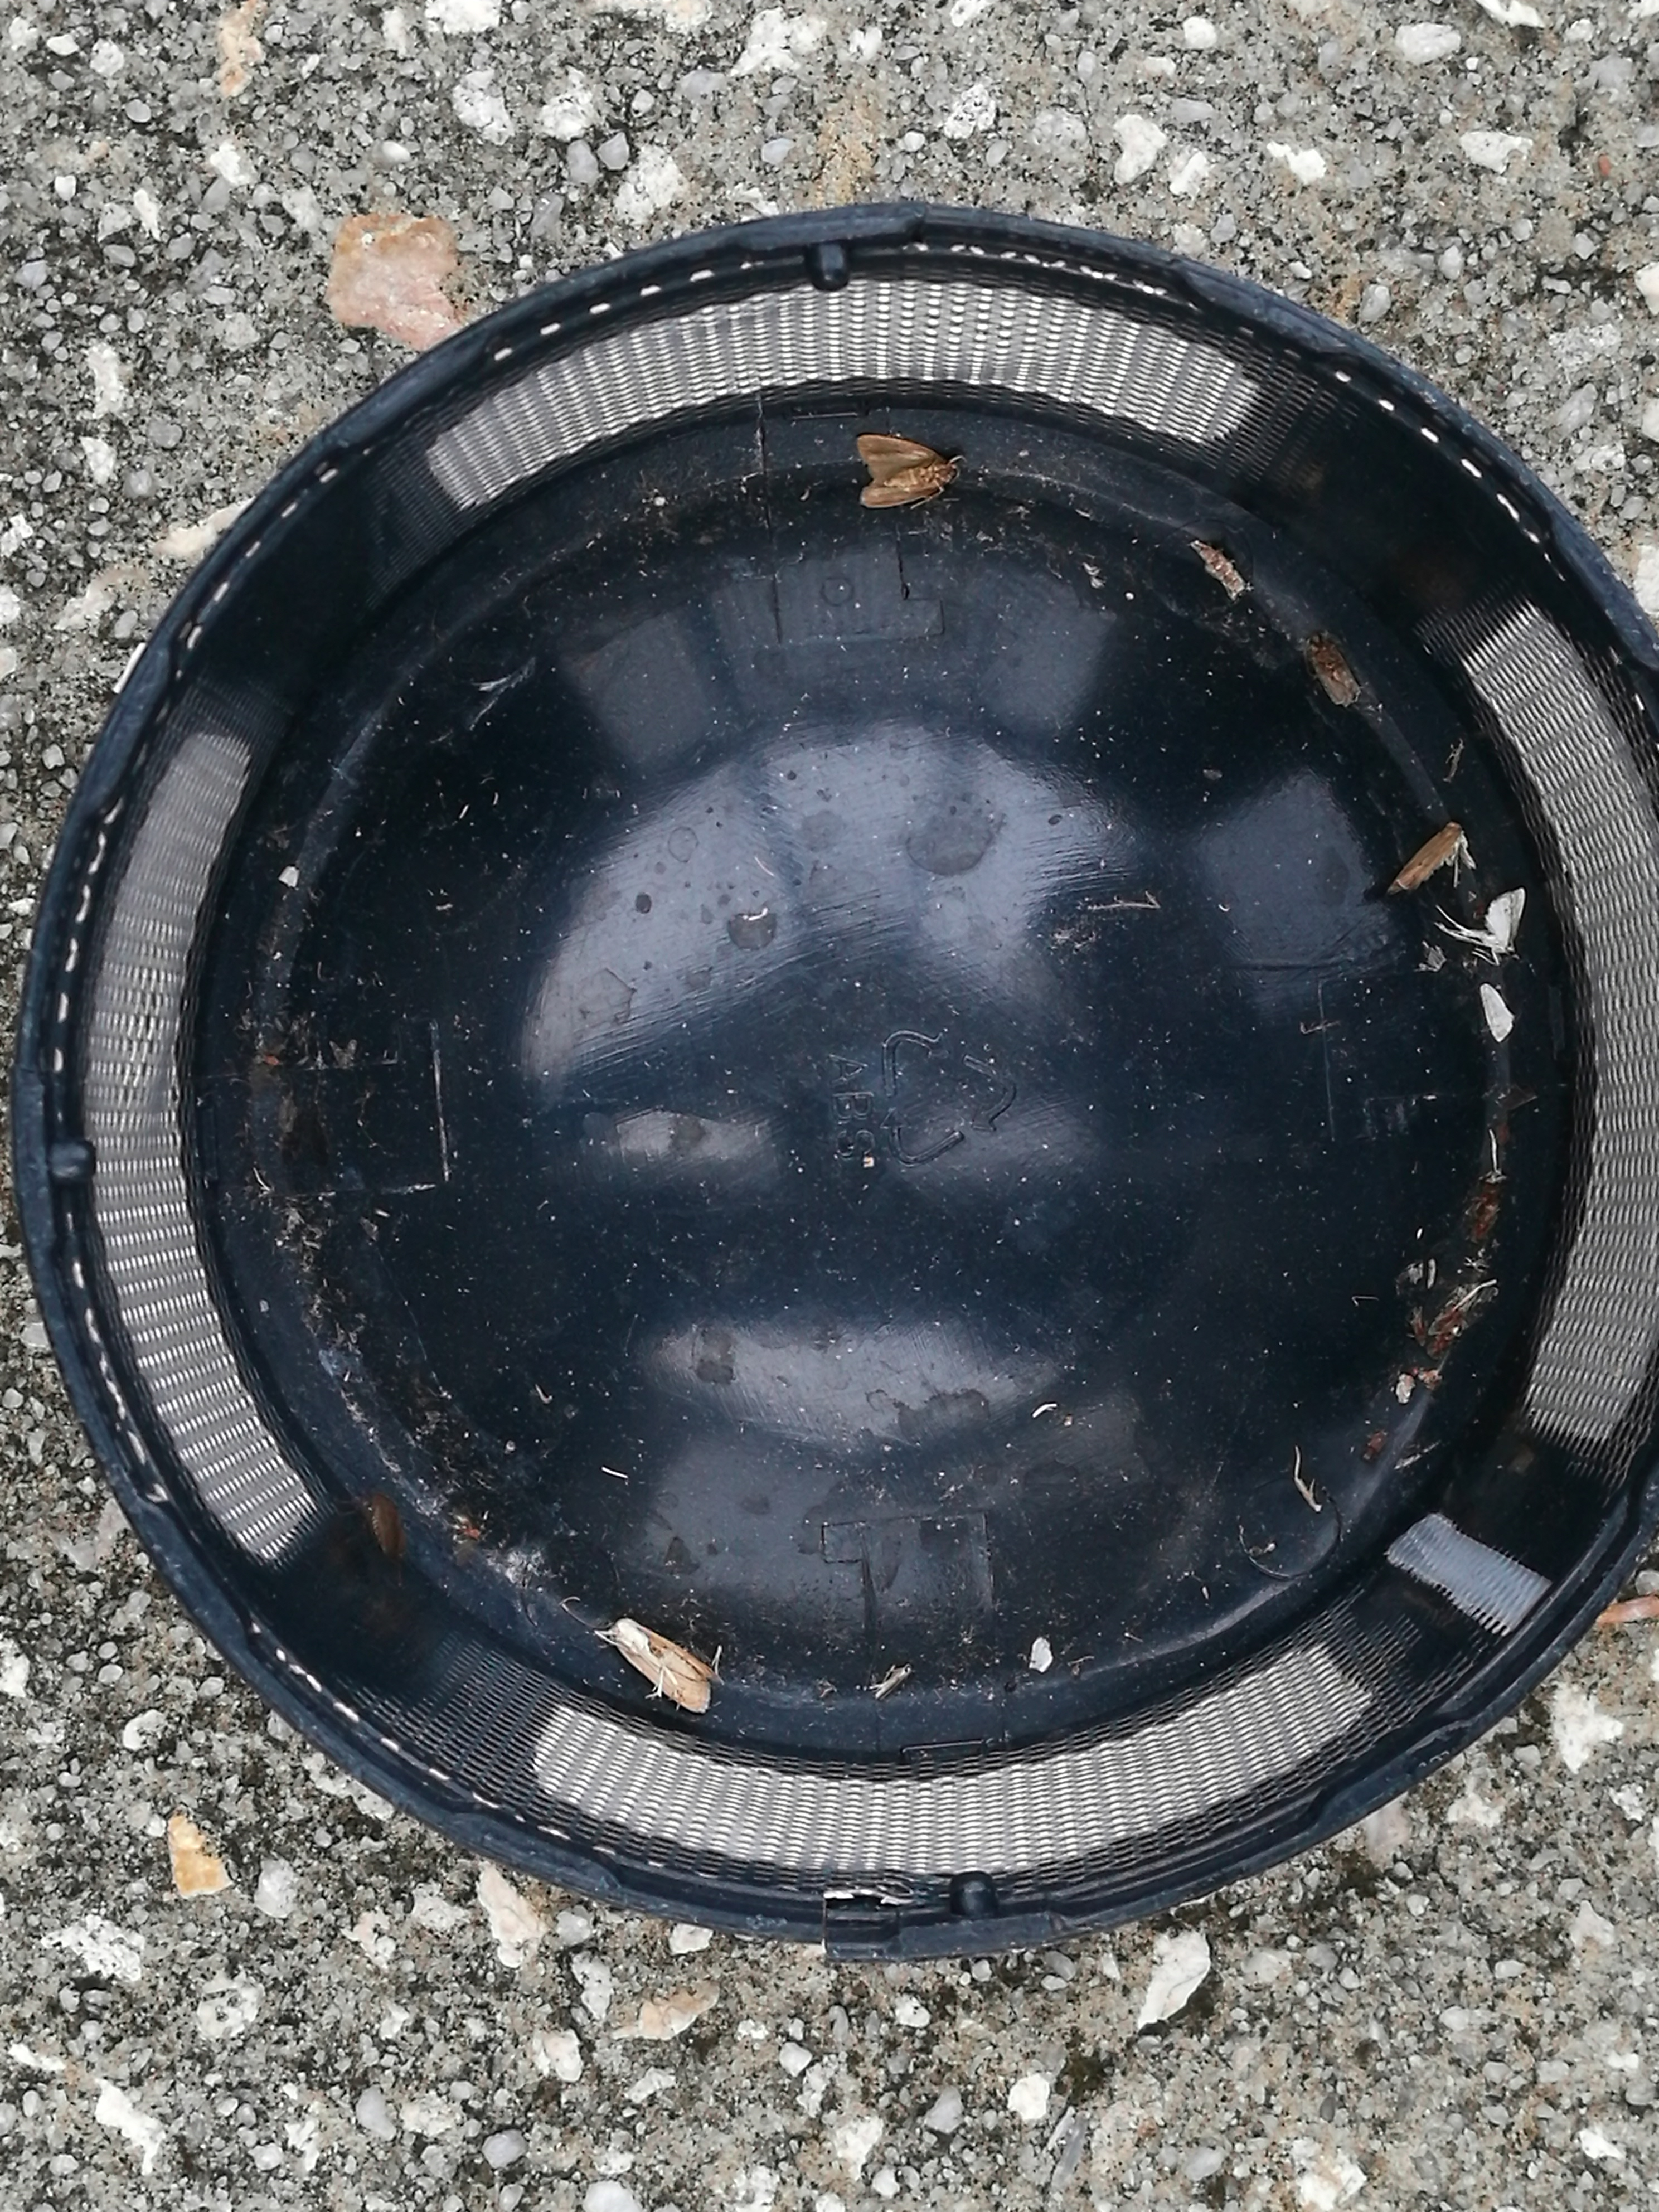mosquito: (617, 1620, 714, 1714), (1389, 820, 1467, 894), (1309, 637, 1359, 705)
moth: (856, 434, 957, 507), (1485, 888, 1528, 953)
